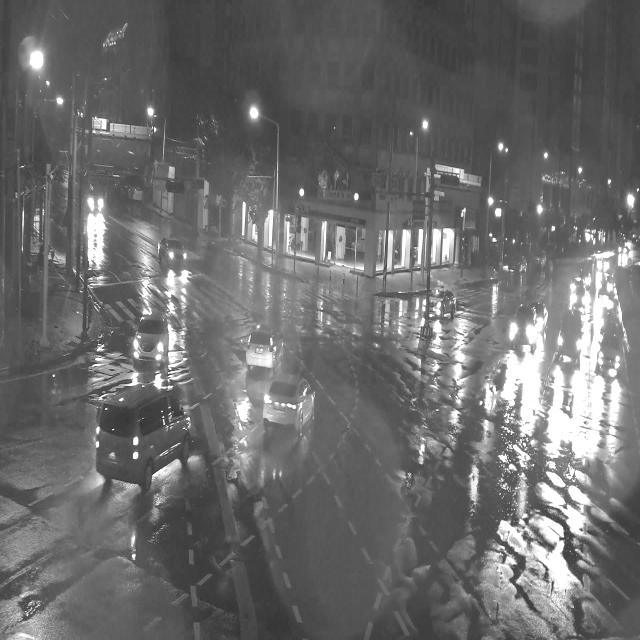Car: (89, 377, 198, 500), (256, 364, 335, 452), (126, 304, 180, 376), (239, 313, 290, 365), (154, 222, 194, 282), (558, 302, 589, 365), (420, 283, 466, 325), (505, 302, 536, 358), (596, 333, 625, 383), (530, 297, 550, 336), (82, 184, 102, 217), (596, 320, 623, 344), (593, 270, 614, 297), (529, 243, 549, 271), (506, 252, 528, 275), (569, 289, 589, 314), (127, 178, 143, 205), (569, 274, 586, 295), (579, 266, 593, 288)
